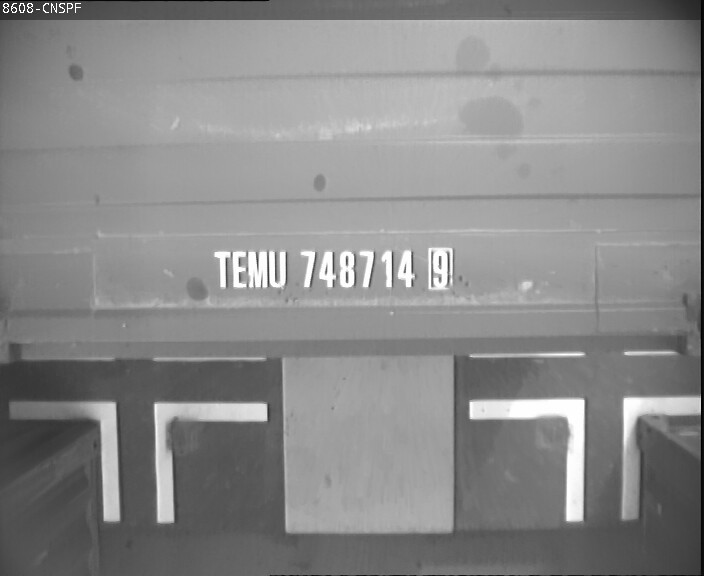groundmarker_1: (8, 396, 265, 528), (469, 395, 703, 521)
